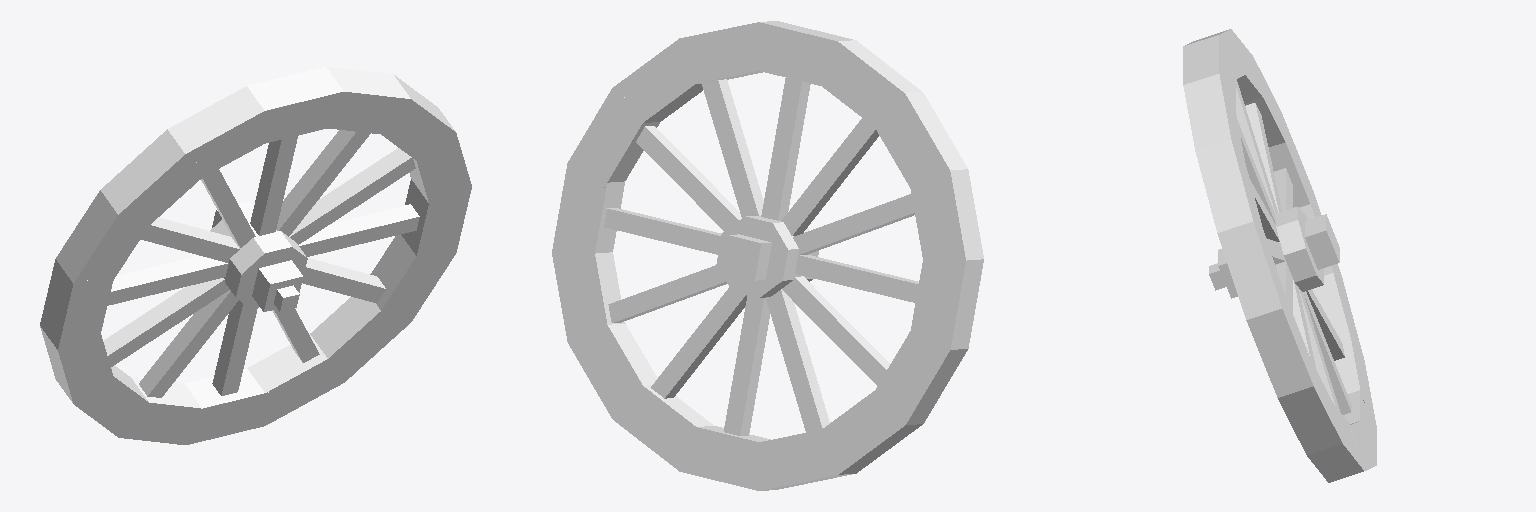
The model's file is mt_wheel_m_display.obj.
The picture shows the model from 3 angles: view 1: azimuth 30°, elevation 25°; view 2: azimuth 150°, elevation 25°; view 3: azimuth 270°, elevation 25°; orthographic projection.
Visible parts, largest first — view 1: cube.006, cube.005, cube.002, hexadecagon.003, cube.000, hexadecagon.001, hexadecagon.002, hexadecagon.011, hexadecagon.004, cube.004, hexadecagon.005, hexadecagon.009 (+14 smaller); view 2: cube.005, cube.000, cube.006, cube.003, hexadecagon.004, cube.002, cube.004, hexadecagon.006, hexadecagon.002, hexadecagon.012, hexadecagon.005, hexadecagon.014 (+15 smaller); view 3: hexadecagon.014, hexadecagon, hexadecagon.013, hexadecagon.000, hexadecagon.012, hexadecagon.001, cube.003, cube.001, cube.000, hexadecagon.011, hexadecagon.007, cube.004 (+11 smaller).
Part boxes in pixels (x1,y1,x2,y2): cube.006: (103,148,415,366); cube.005: (139,130,370,397); cube.002: (108,204,419,305); hexadecagon.003: (101,129,208,231); cube.000: (212,136,297,395); hexadecagon.001: (247,67,343,145); hexadecagon.002: (168,86,264,176); hexadecagon.011: (310,297,410,382); hexadecagon.004: (56,190,147,283); cube.004: (140,217,385,303); hexadecagon.005: (40,259,114,349); hexadecagon.009: (185,368,272,444); cube.005: (701,79,829,432); cube.000: (724,78,810,435); cube.006: (636,126,889,385); cube.003: (651,118,878,398); hexadecagon.004: (909,169,983,268); cube.002: (604,208,918,302); cube.004: (608,194,914,322); hexadecagon.006: (871,323,967,424); hexadecagon.002: (815,40,921,132); hexadecagon.012: (552,244,625,342); hexadecagon.005: (911,259,983,349); hexadecagon.014: (568,88,659,189); hexadecagon.014: (1217,218,1287,319); hexadecagon: (1195,139,1261,232); hexadecagon.013: (1246,298,1313,397); hexadecagon.000: (1183,74,1245,166); hexadecagon.012: (1278,352,1342,454); hexadecagon.001: (1183,35,1235,108); cube.003: (1236,79,1339,410); cube.001: (1218,214,1339,298); cube.000: (1238,123,1351,414); hexadecagon.011: (1307,403,1363,482); hexadecagon.007: (1312,273,1364,360); cube.004: (1245,103,1315,367).
Bounding box in the file's own units: 1.5 × 1.45 × 0.6305.